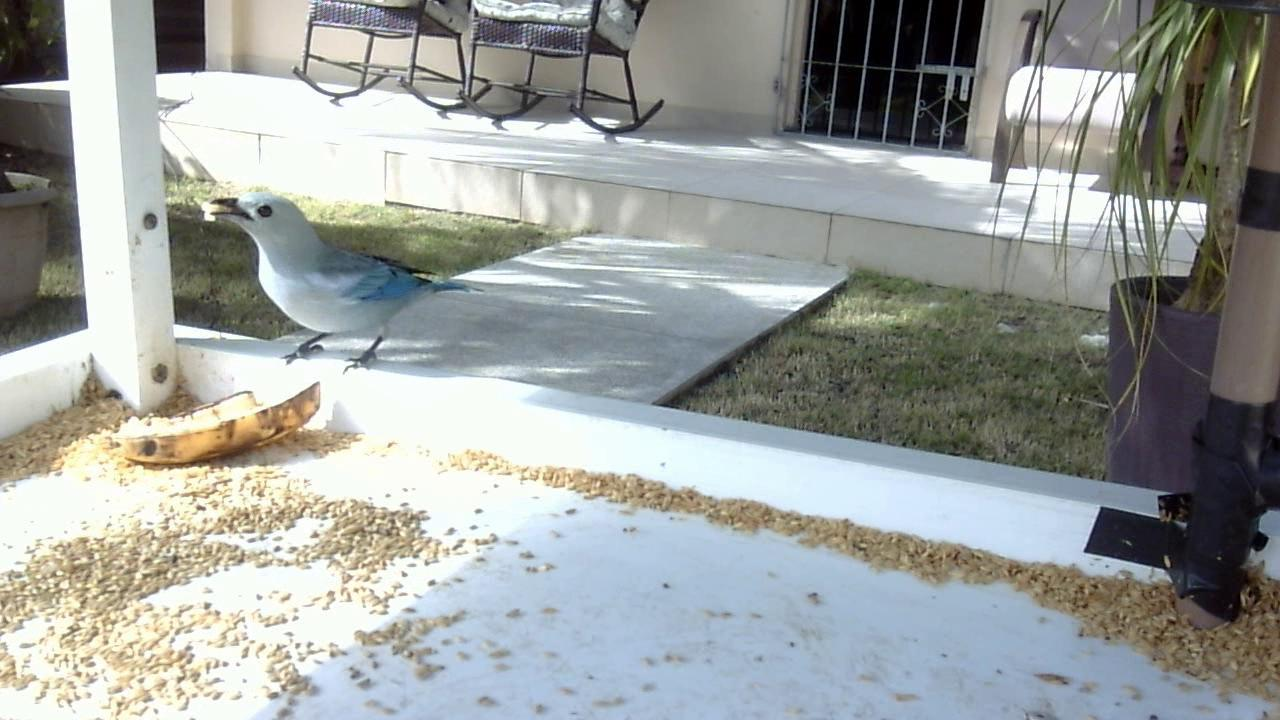sanhaco_da_amazonia: (204, 190, 531, 376)
